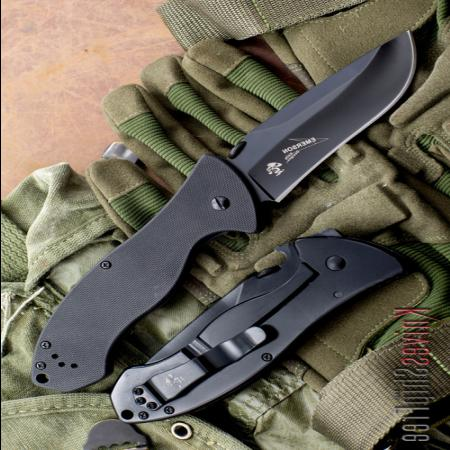long weapon: (207, 23, 419, 208)
